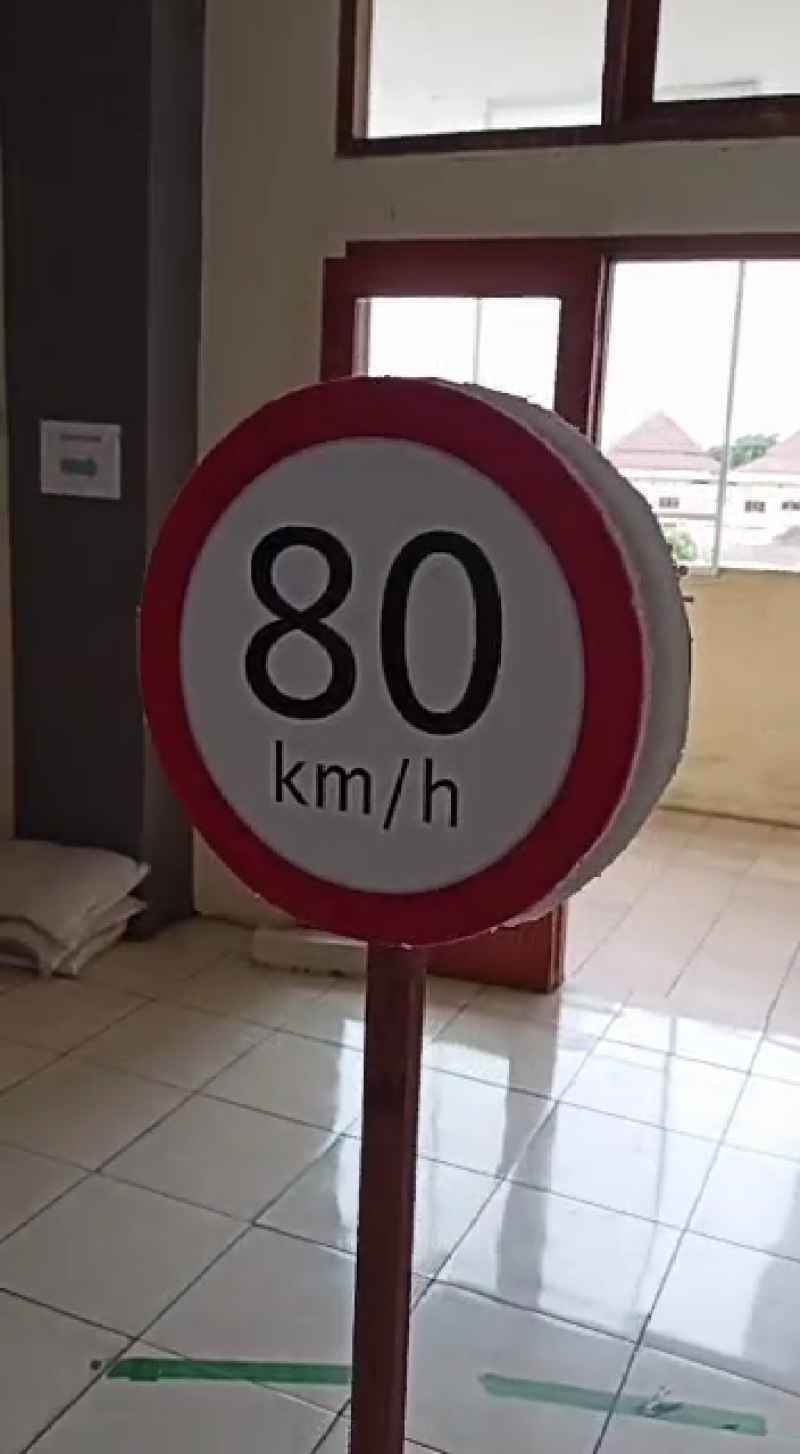batas maksimal 80kmperjam: (130, 370, 659, 951)
